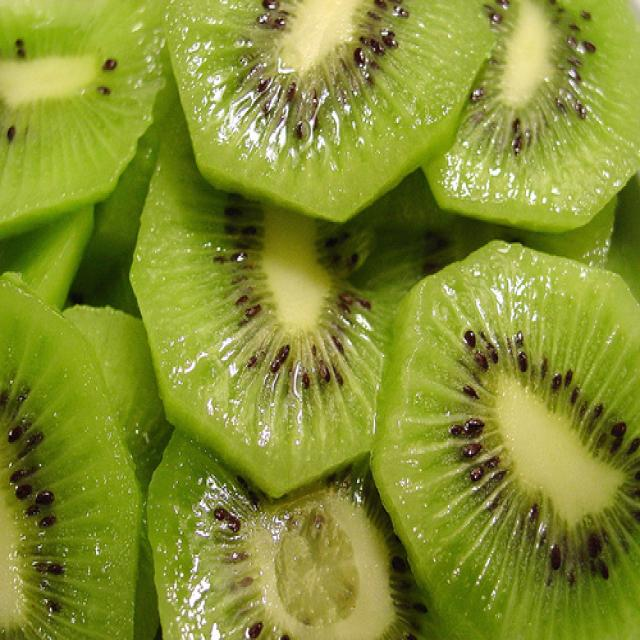Chilli Pepper: (126, 82, 486, 480), (375, 247, 640, 640), (164, 0, 553, 266), (139, 373, 446, 640), (0, 275, 154, 640)
